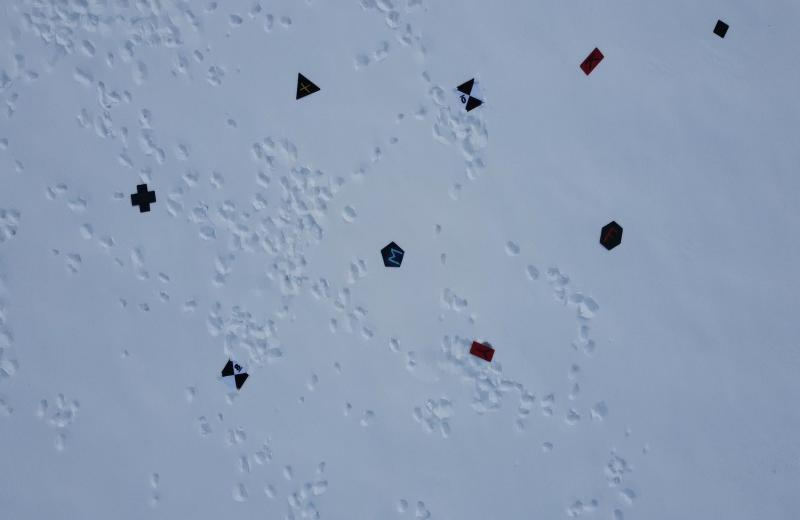Cross: (128, 180, 160, 214)
Hexagon: (596, 219, 626, 255)
Pentagon: (379, 238, 408, 272)
Rectangle: (578, 47, 609, 80), (464, 337, 497, 367)
Square: (711, 15, 732, 47)
Triangle: (292, 72, 324, 106)
